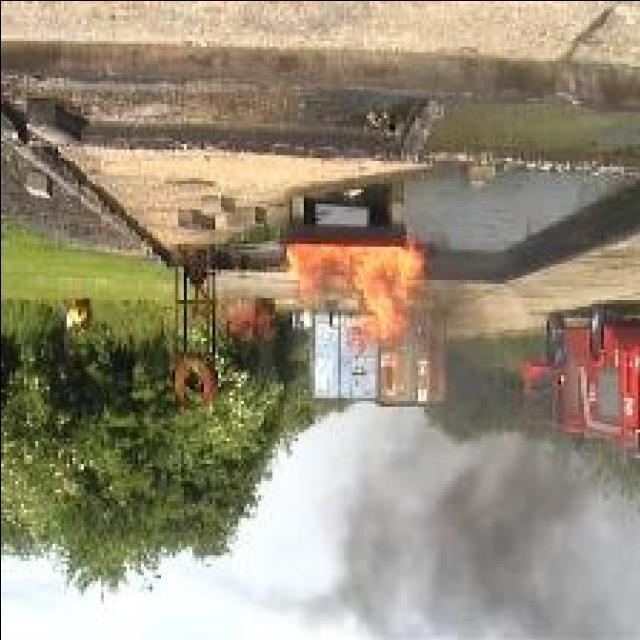Fire: (287, 242, 427, 342)
